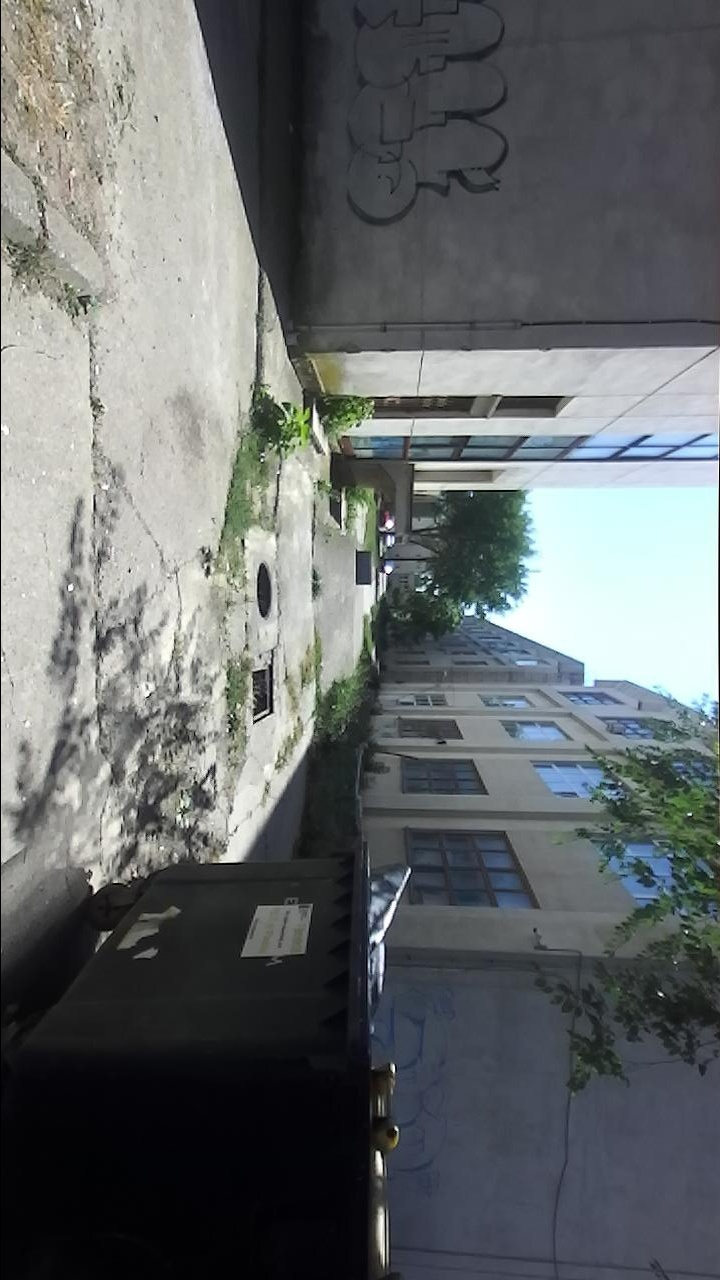drain: (245, 661, 278, 730), (251, 559, 276, 623)
